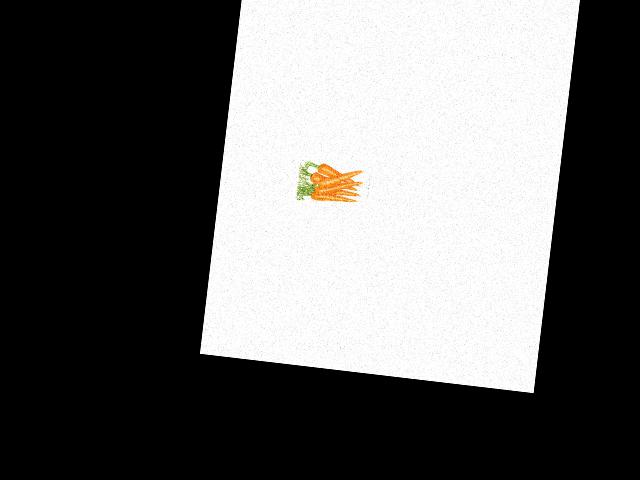carrot: (313, 181, 367, 200)
